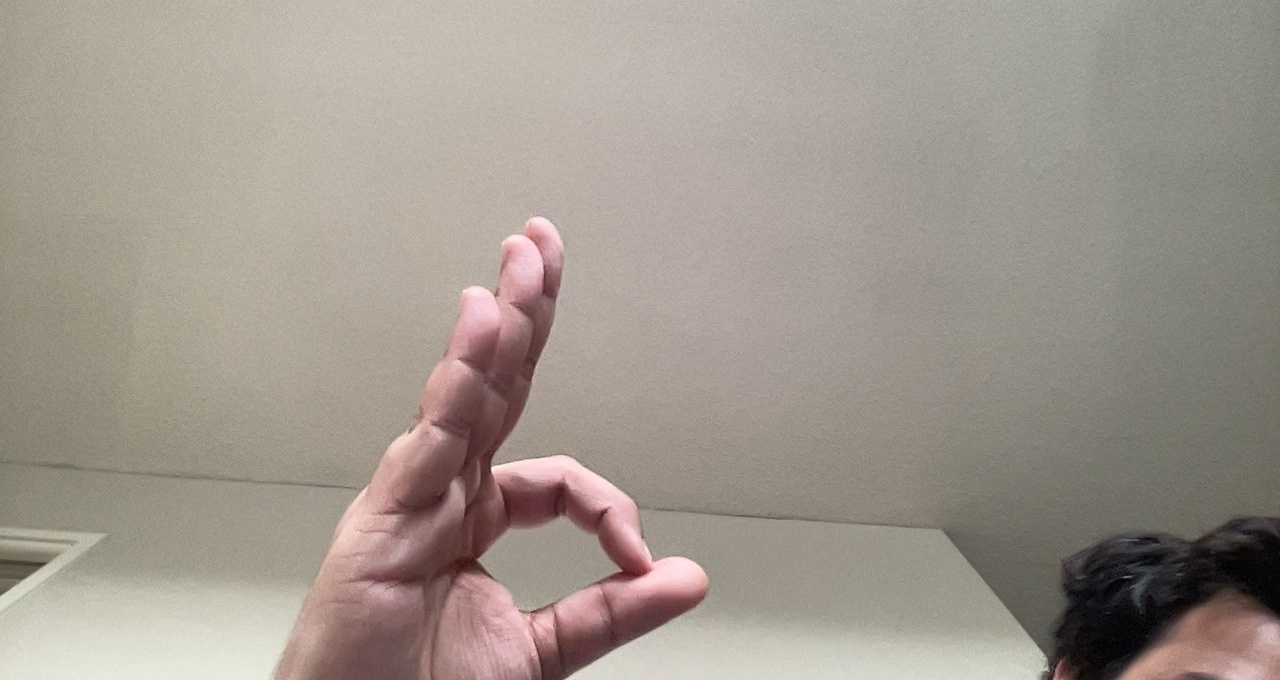ok: (266, 212, 713, 672)
